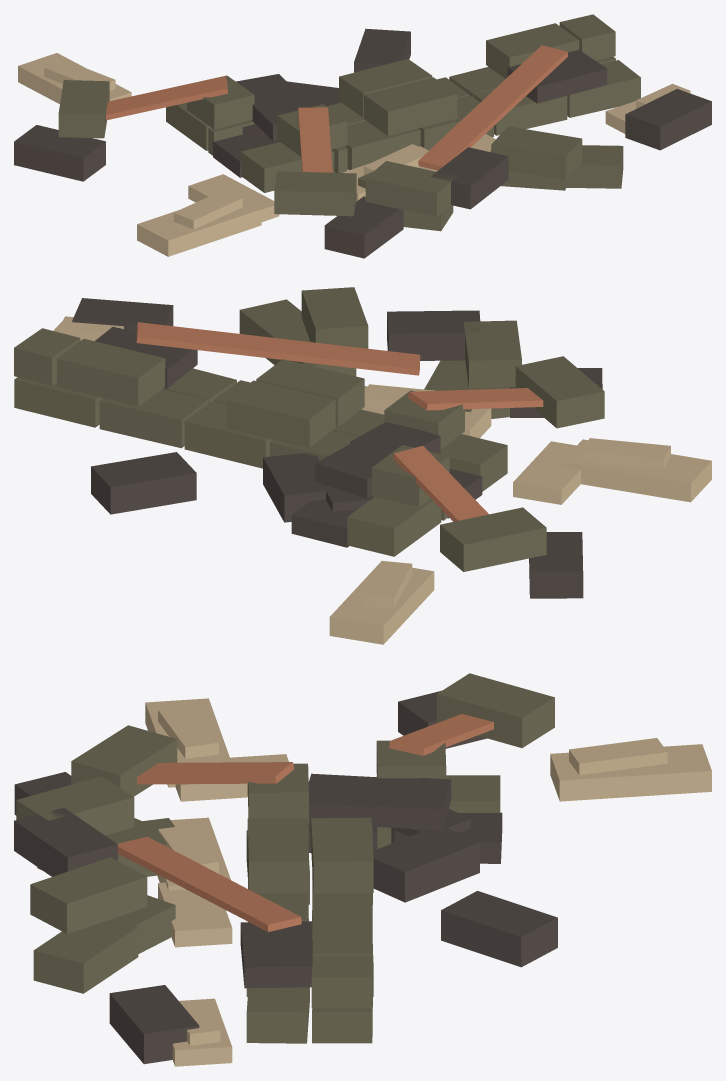
The model's file is SM_SacosRemate_v3_Tablon_e2_MuyDanado_LOD0.fbx.
3 views of the same model, one above another, from view 1: azimuth 30°, elevation 25°; view 2: azimuth 150°, elevation 25°; view 3: azimuth 270°, elevation 25° (orthographic). The views are drawn at different scales.
Visible parts, largest first — view 1: SM_sacos_piezas_v34_LOD0; view 2: SM_sacos_piezas_v34_LOD0; view 3: SM_sacos_piezas_v34_LOD0.
Boxes of the visible parts, x1,y1,x2,y2 form: SM_sacos_piezas_v34_LOD0: (14,14,711,258); SM_sacos_piezas_v34_LOD0: (14,287,711,644); SM_sacos_piezas_v34_LOD0: (14,673,711,1066).
Bounding box in the file's own units: 6.58 × 0.6798 × 5.44.
